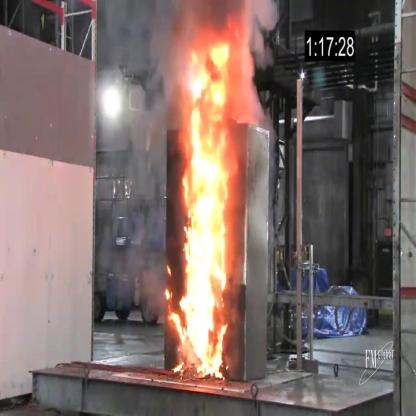fire: (178, 46, 229, 390)
